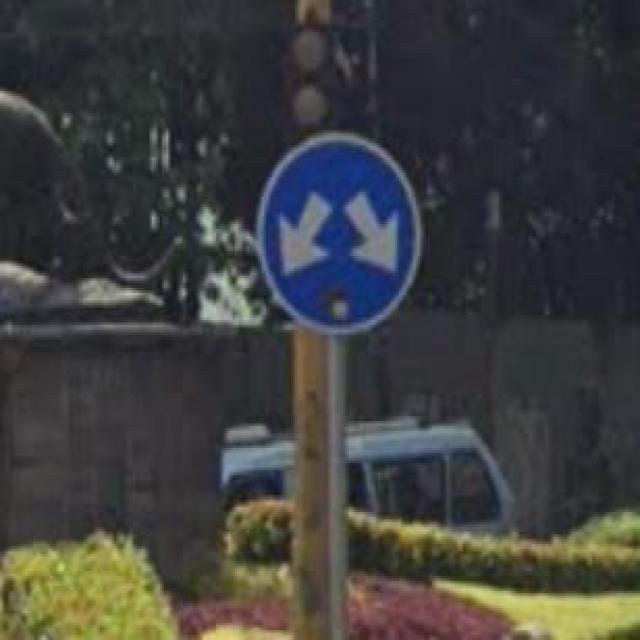traffic sign: (258, 133, 420, 332)
